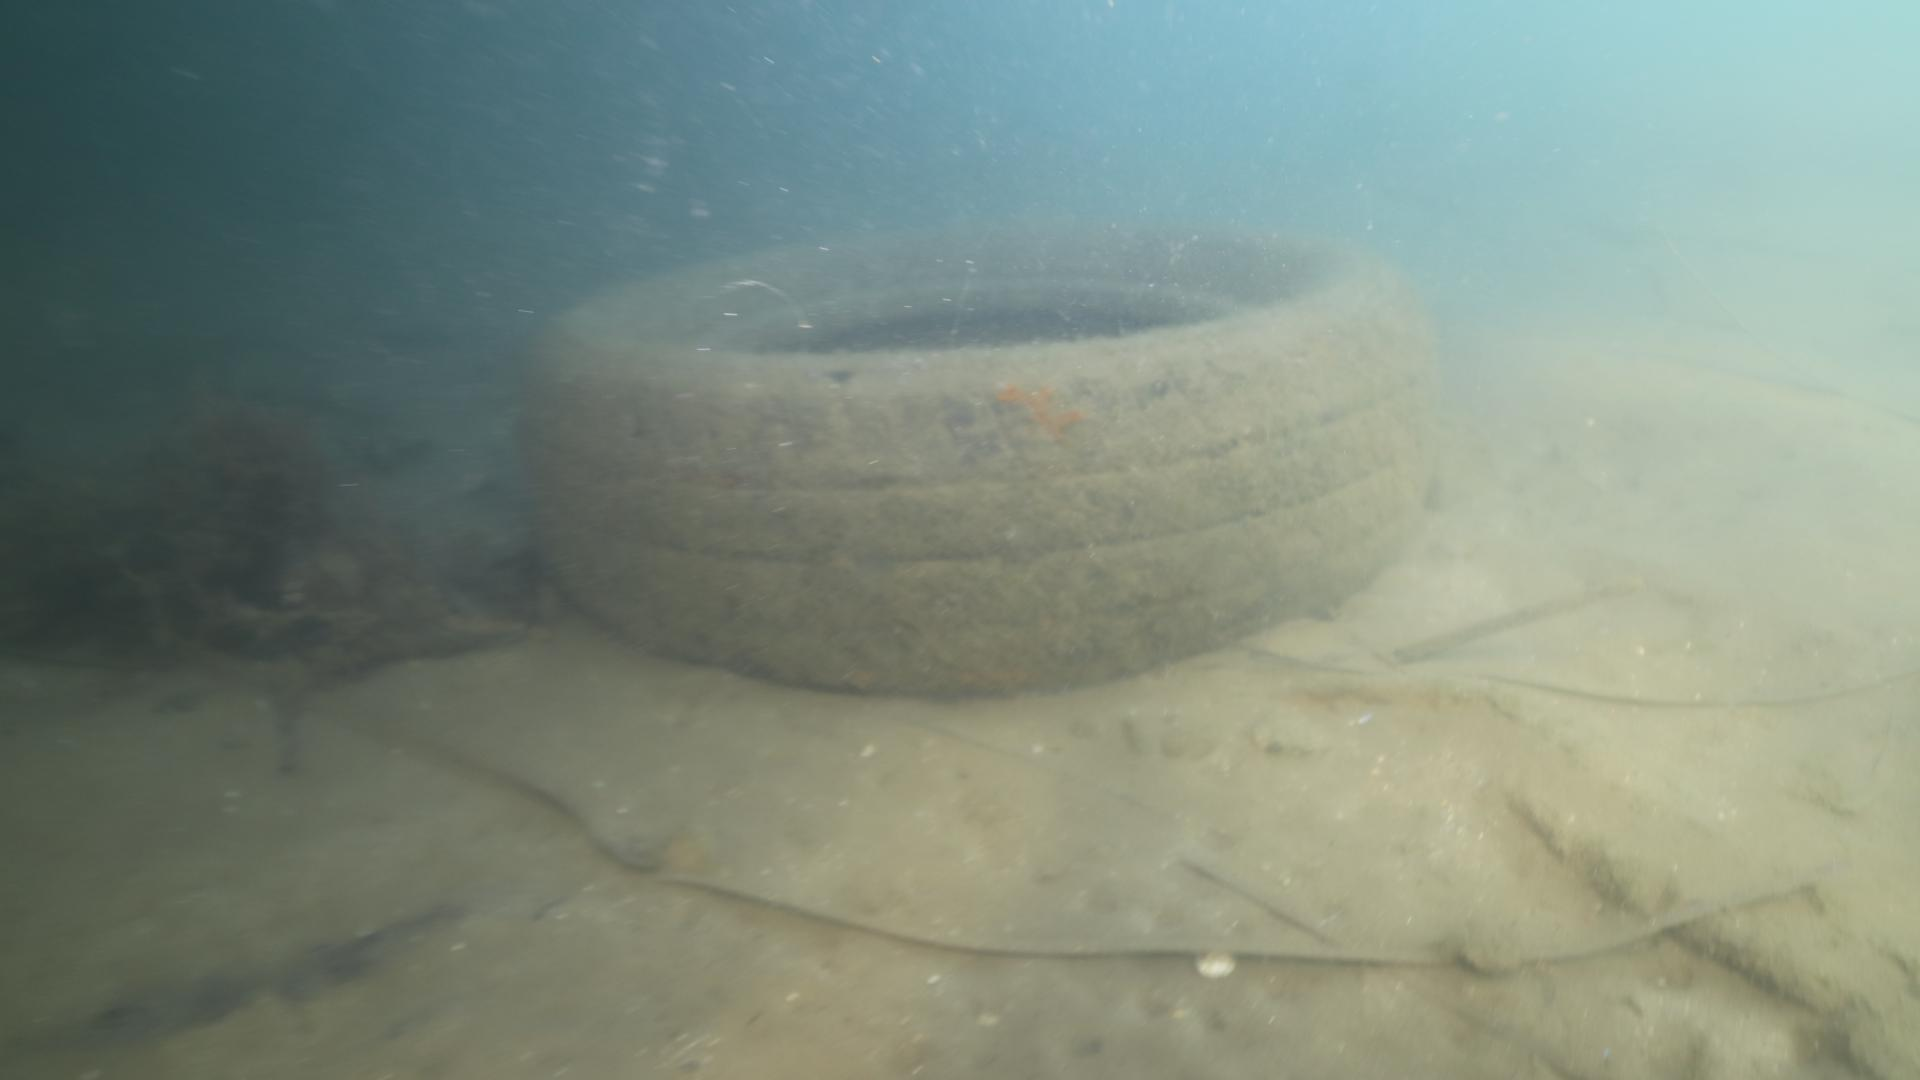tire: (518, 208, 1447, 702)
